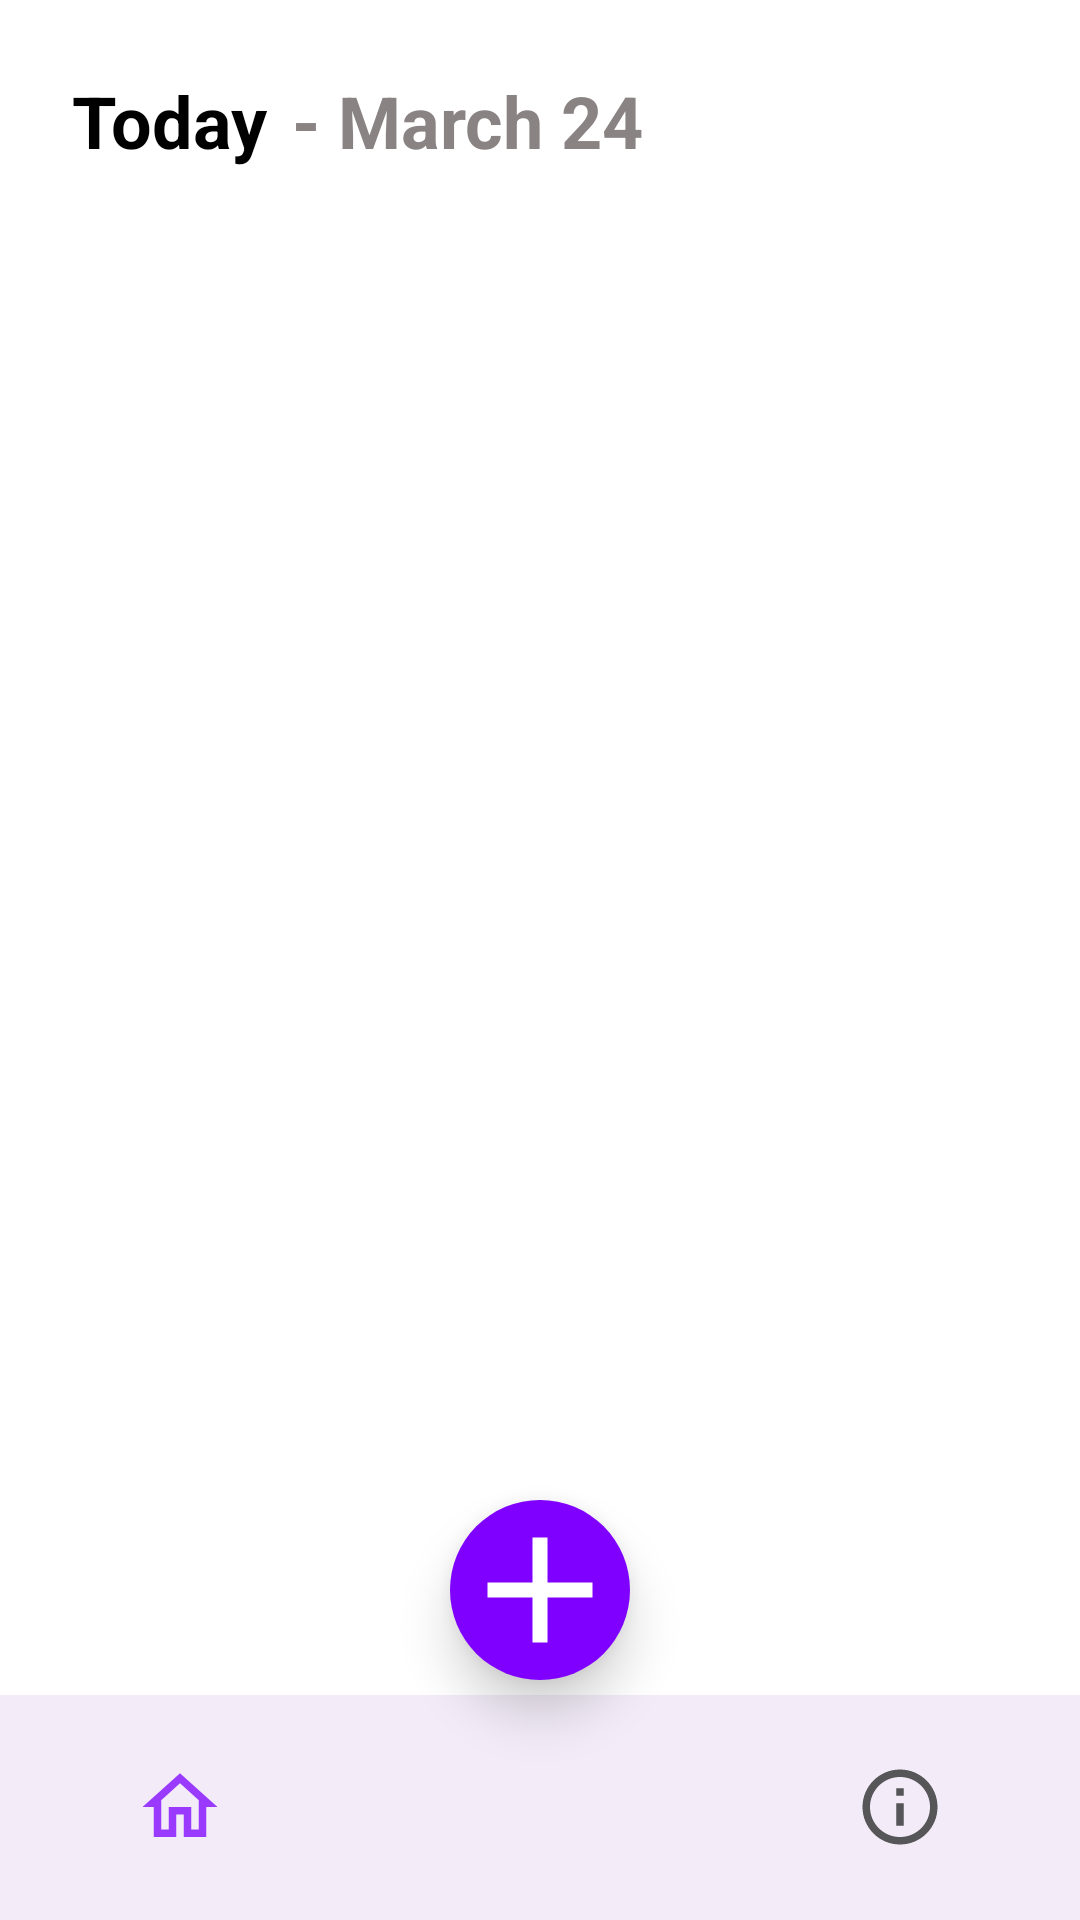

Where icons sit on this 1080×1920 app screen, as box(x1, y1, x2, y2):
add: box(450, 1500, 630, 1680)
